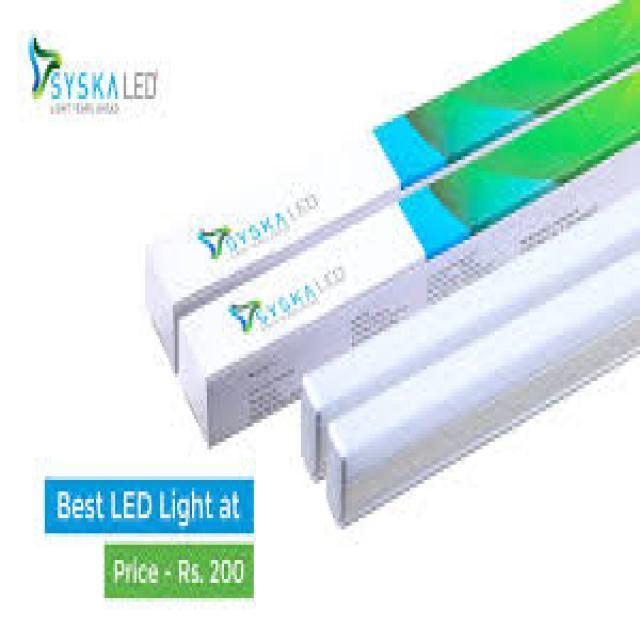tubelight_off: (316, 241, 640, 533), (296, 181, 640, 428)
